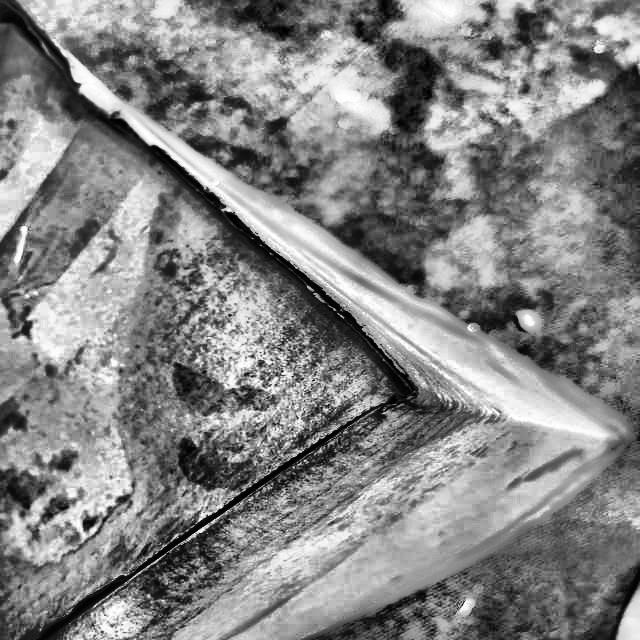box: (0, 0, 639, 639)
wet: (126, 204, 472, 550)
